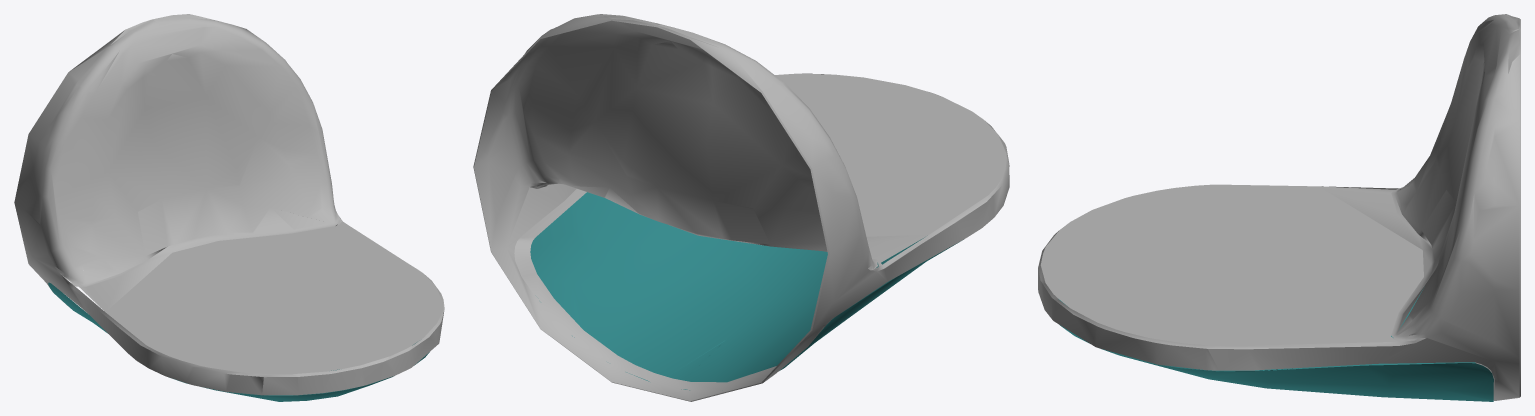
Rendered from arm-L1.dae.
The picture shows the model from 3 angles, left to right: view 1: azimuth 30°, elevation 25°; view 2: azimuth 150°, elevation 25°; view 3: azimuth 270°, elevation 25°; orthographic projection. The views are drawn at different scales.
Parts seen in each view (by area): view 1: arm-L1; view 2: arm-L1; view 3: arm-L1.
Part boxes in pixels (left/top/right/bottom): arm-L1: left=14, top=14, right=444, bottom=401; arm-L1: left=473, top=14, right=1009, bottom=401; arm-L1: left=1038, top=14, right=1520, bottom=401.
Bounding box in the file's own units: 0.074 × 0.0739 × 0.092.
